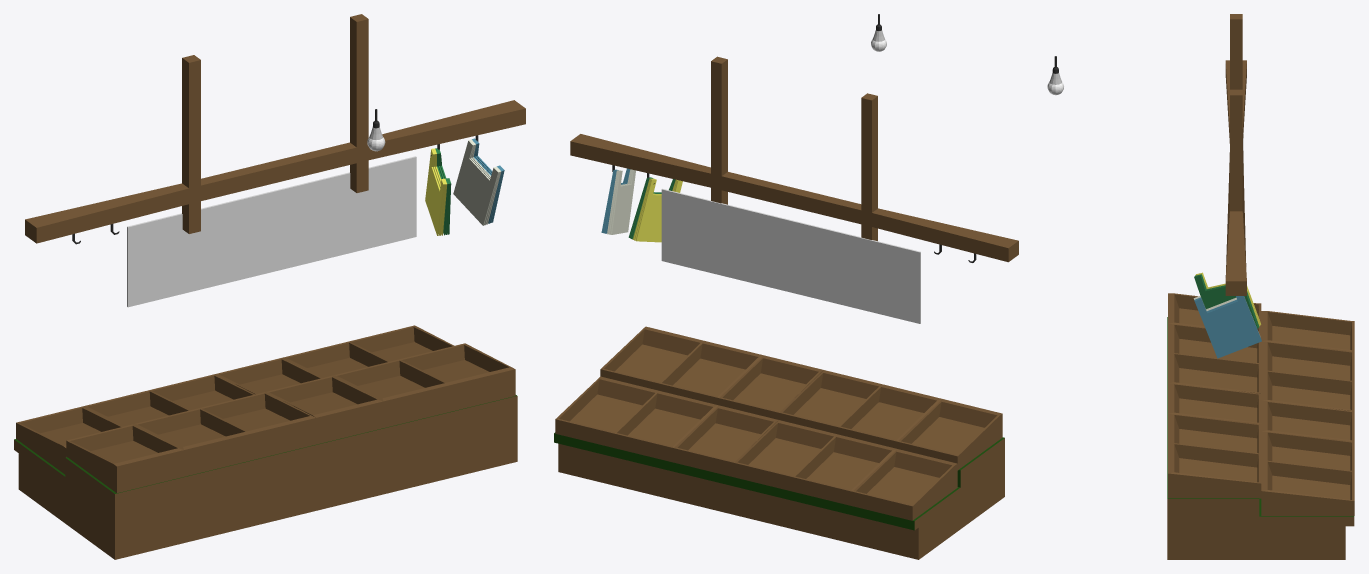
Rendered from tindahanngprutas.fbx.
The picture shows the model from 3 angles, left to right: view 1: azimuth 30°, elevation 25°; view 2: azimuth 150°, elevation 25°; view 3: azimuth 270°, elevation 25°; orthographic projection. The views are drawn at different scales.
Visible parts, largest first — view 1: container, LongTable1.005, stallname, tindahanngprutas2, Plastic.002, Plastic.001; view 2: container, stallname, LongTable1.005, tindahanngprutas2, Plastic.001, Plastic.002; view 3: container, LongTable1.005, tindahanngprutas2, Plastic.002, Plastic.001.
Boxes of the visible parts, <box> form: container: <box>16,325,515,492</box>; LongTable1.005: <box>14,395,517,559</box>; stallname: <box>127,156,416,307</box>; tindahanngprutas2: <box>25,14,525,243</box>; Plastic.002: <box>453,138,504,225</box>; Plastic.001: <box>425,148,451,235</box>; container: <box>555,326,1002,520</box>; stallname: <box>661,188,920,323</box>; LongTable1.005: <box>554,432,1004,559</box>; tindahanngprutas2: <box>570,56,1018,262</box>; Plastic.001: <box>628,177,682,242</box>; Plastic.002: <box>601,168,635,234</box>; container: <box>1168,293,1354,515</box>; LongTable1.005: <box>1167,317,1354,559</box>; tindahanngprutas2: <box>1225,14,1246,295</box>; Plastic.002: <box>1193,295,1261,358</box>; Plastic.001: <box>1194,272,1260,328</box>.
Size of the model in its own units: 6.83 by 5.95 by 4.01.
